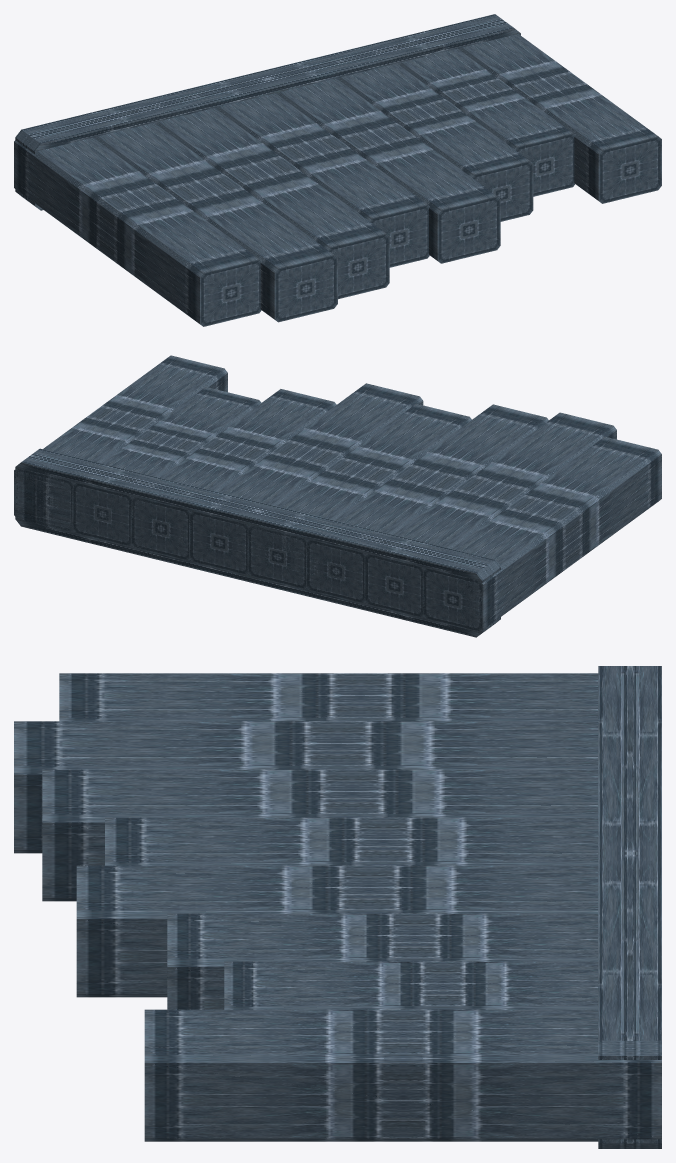
The model's file is rv_ruin_wall.obj.
The picture shows the model from 3 angles, top to bottom: view 1: azimuth 30°, elevation 25°; view 2: azimuth 150°, elevation 25°; view 3: azimuth 270°, elevation 25°; orthographic projection. The views are drawn at different scales.
Visible parts, largest first — view 1: rv_ruin_wall; view 2: rv_ruin_wall; view 3: rv_ruin_wall.
Boxes of the visible parts, x1,y1,x2,y2 form: rv_ruin_wall: [14, 14, 661, 326]; rv_ruin_wall: [14, 355, 661, 637]; rv_ruin_wall: [14, 666, 661, 1148].
Bounding box in the file's own units: 8.04 × 1.1 × 5.7.
Materials: 1 (1 with a texture image).
